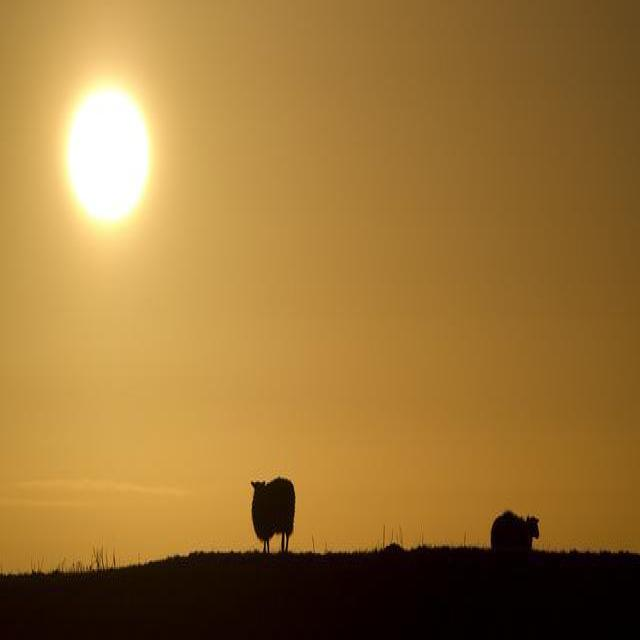Sheep: (252, 477, 296, 555)
